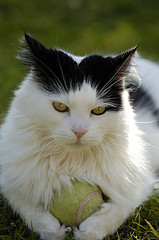tennis ball: (42, 173, 106, 227)
